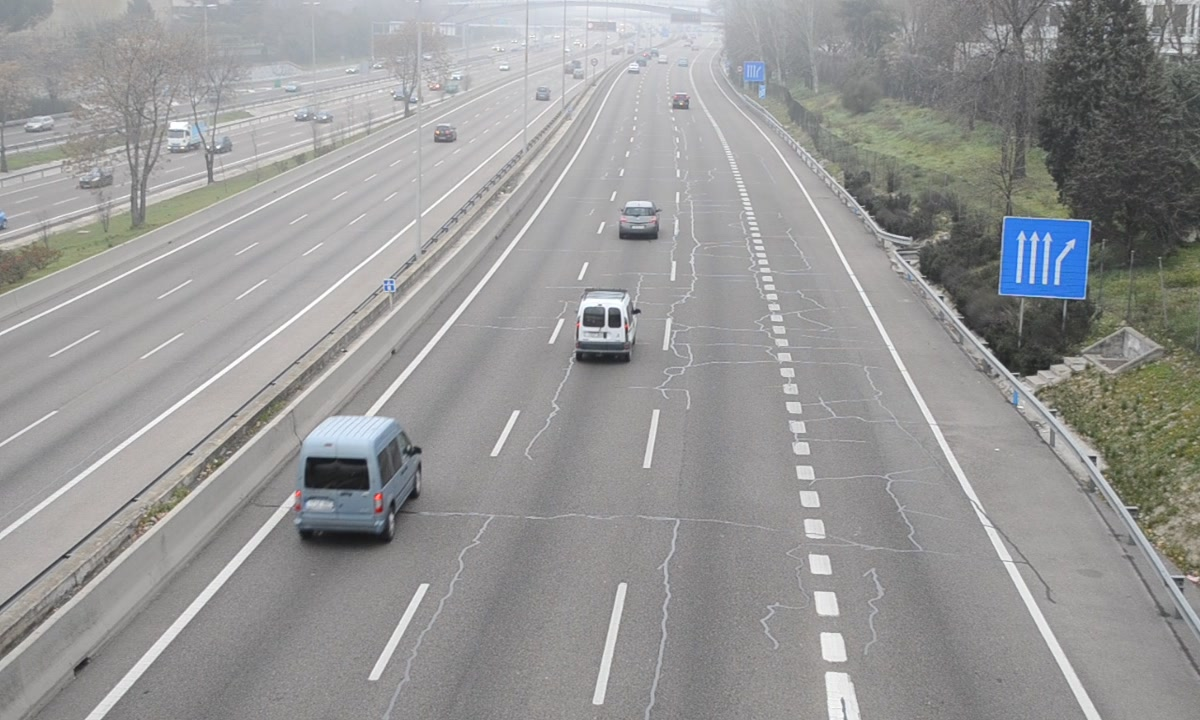car: (618, 200, 659, 237)
van: (297, 418, 420, 536), (575, 291, 637, 359)
